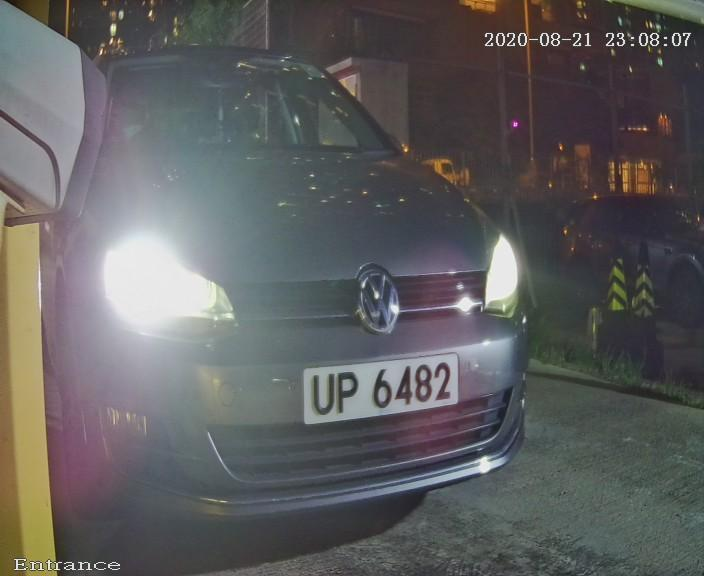Car: (1, 11, 569, 556)
License Plate: (293, 348, 472, 427)
